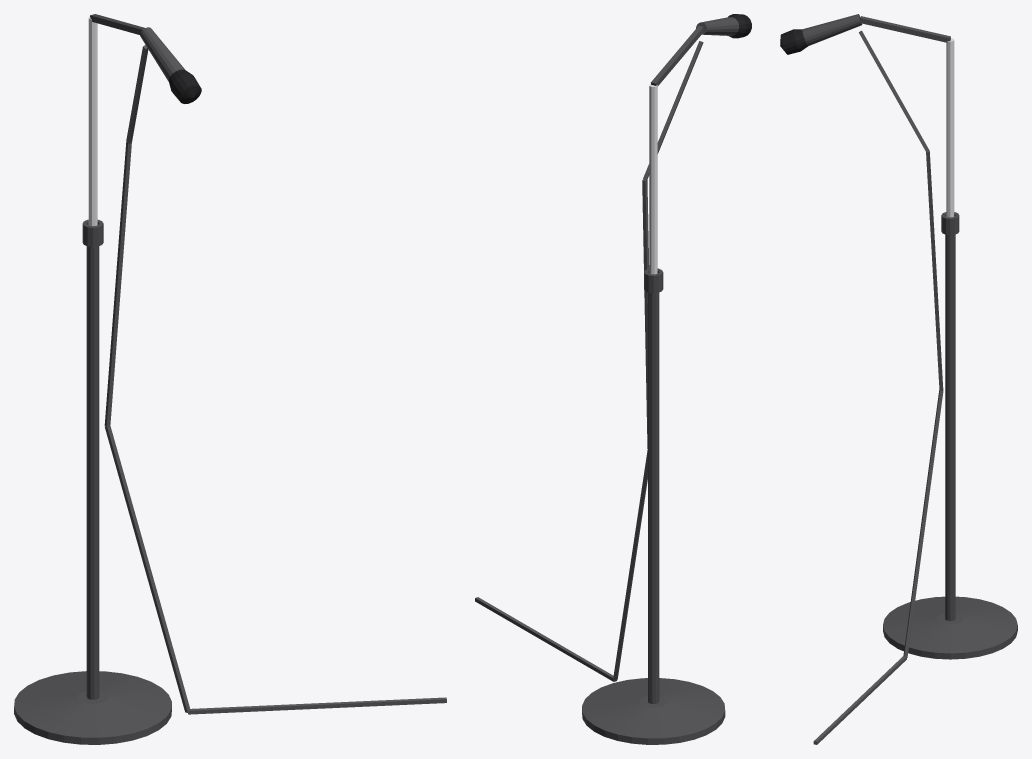
Rendered from microfone_pedestal.glb.
The picture shows the model from 3 angles, left to right: view 1: azimuth 30°, elevation 25°; view 2: azimuth 150°, elevation 25°; view 3: azimuth 270°, elevation 25°; orthographic projection. The views are drawn at different scales.
Visible parts, largest first — view 1: microfone_pedestal_preto_palco, microfone_pedestal_borracha, microfone_pedestal_aco_polido, microfone_pedestal_tela_som; view 2: microfone_pedestal_preto_palco, microfone_pedestal_borracha, microfone_pedestal_aco_polido; view 3: microfone_pedestal_preto_palco, microfone_pedestal_borracha, microfone_pedestal_aco_polido, microfone_pedestal_tela_som.
Part boxes in pixels (<box>): microfone_pedestal_preto_palco: <box>14,14,184,744</box>; microfone_pedestal_borracha: <box>104,45,446,714</box>; microfone_pedestal_aco_polido: <box>88,16,97,225</box>; microfone_pedestal_tela_som: <box>169,69,201,103</box>; microfone_pedestal_preto_palco: <box>582,17,738,744</box>; microfone_pedestal_borracha: <box>475,41,703,681</box>; microfone_pedestal_aco_polido: <box>649,84,657,274</box>; microfone_pedestal_preto_palco: <box>802,14,1017,659</box>; microfone_pedestal_borracha: <box>813,30,943,744</box>; microfone_pedestal_aco_polido: <box>946,38,954,217</box>; microfone_pedestal_tela_som: <box>780,29,807,54</box>.
Size of the model in its own units: 0.7516 by 1.51 by 0.5285.
4 materials, 1 textured.
